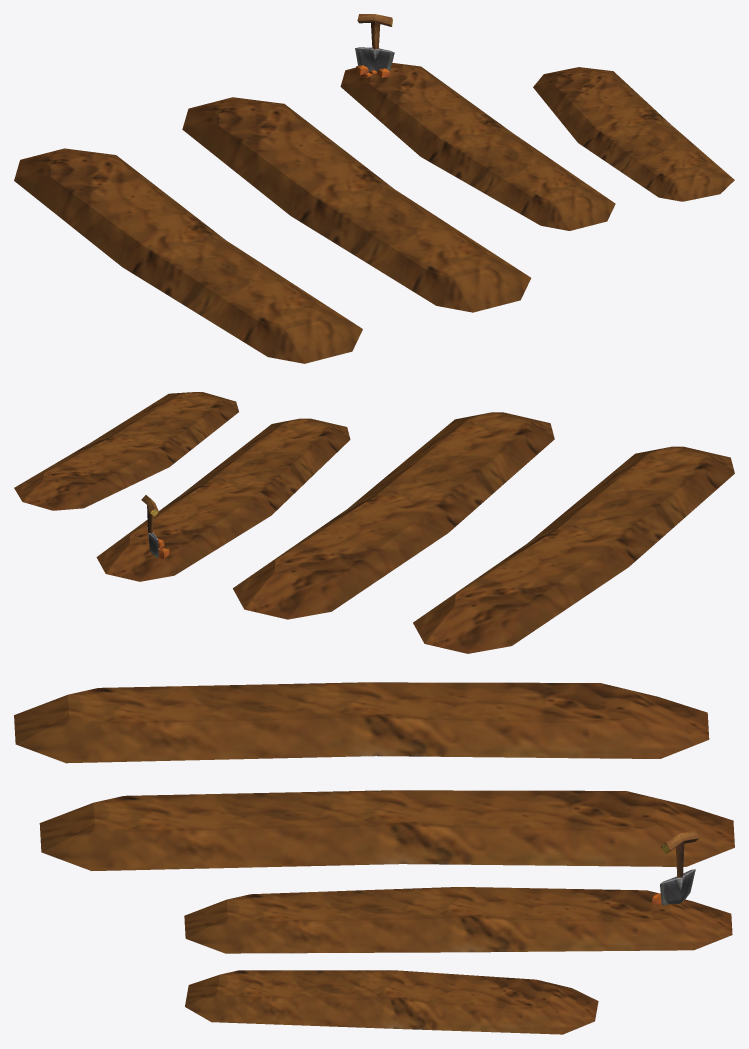
The model's file is Nongtian01.FBX.
The picture shows the model from 3 angles, top to bottom: view 1: azimuth 30°, elevation 25°; view 2: azimuth 150°, elevation 25°; view 3: azimuth 270°, elevation 25°; orthographic projection. The views are drawn at different scales.
Parts seen in each view (by area): view 1: Nongtian; view 2: Nongtian; view 3: Nongtian.
Part boxes in pixels (box(x1,y1,x2,y2)): Nongtian: box(14, 14, 734, 363); Nongtian: box(14, 392, 734, 653); Nongtian: box(14, 682, 734, 1034).
Size of the model in its own units: 324 by 38.12 by 287.
